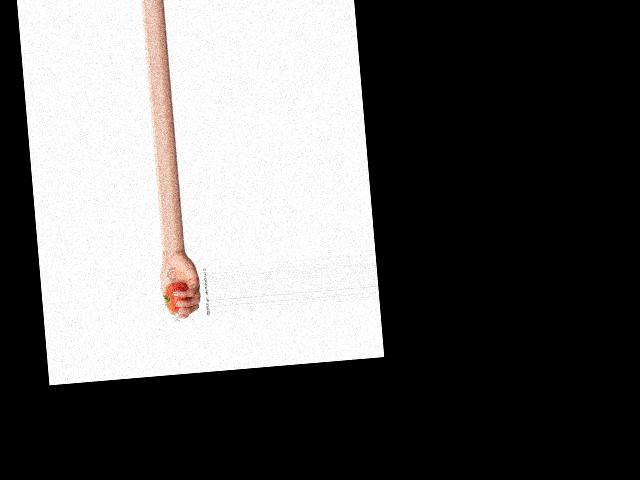tomato: (164, 282, 192, 314)
